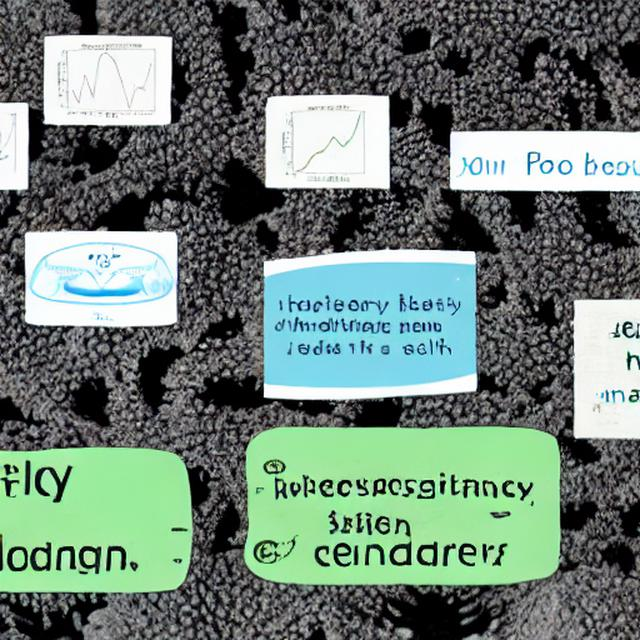Graph: (53, 37, 166, 122), (273, 101, 381, 182)
